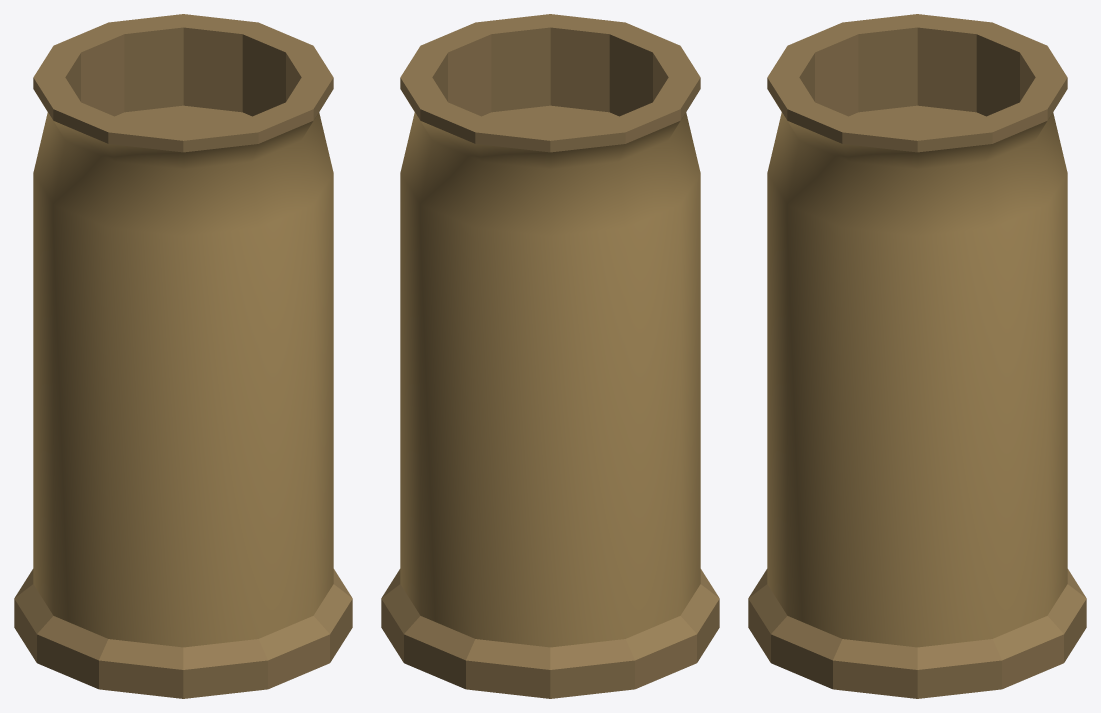
Rendered from casing.glb.
3 renders of one model, left to right at view 1: azimuth 30°, elevation 25°; view 2: azimuth 150°, elevation 25°; view 3: azimuth 270°, elevation 25°, orthographic.
Parts seen in each view (by area): view 1: casing; view 2: casing; view 3: casing.
Part boxes in pixels (x1,y1,x2,y2): casing: (14, 14, 352, 698); casing: (381, 14, 719, 698); casing: (748, 14, 1086, 698).
Size of the model in its own units: 0.0106 by 0.019 by 0.0106.
